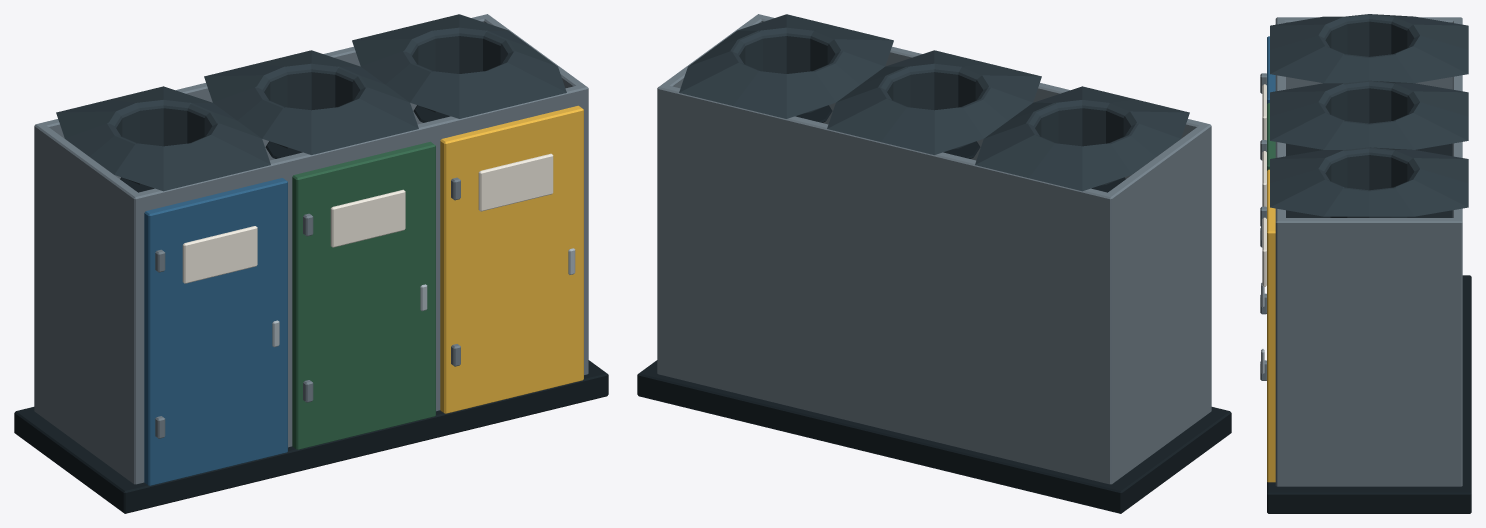
File: b04_three_hole_public_recycling_sorter.glb
The picture shows the model from 3 angles, left to right: view 1: azimuth 30°, elevation 25°; view 2: azimuth 150°, elevation 25°; view 3: azimuth 270°, elevation 25°; orthographic projection. The views are drawn at different scales.
Parts seen in each view (by area): view 1: b04_three_hole_public_recycling_sorter; view 2: b04_three_hole_public_recycling_sorter; view 3: b04_three_hole_public_recycling_sorter.
Part boxes in pixels (x1,y1,x2,y2): b04_three_hole_public_recycling_sorter: (14,14,608,513); b04_three_hole_public_recycling_sorter: (637,14,1231,513); b04_three_hole_public_recycling_sorter: (1260,14,1471,513).
Size of the model in its own units: 1.77 by 1.14 by 0.7225.
